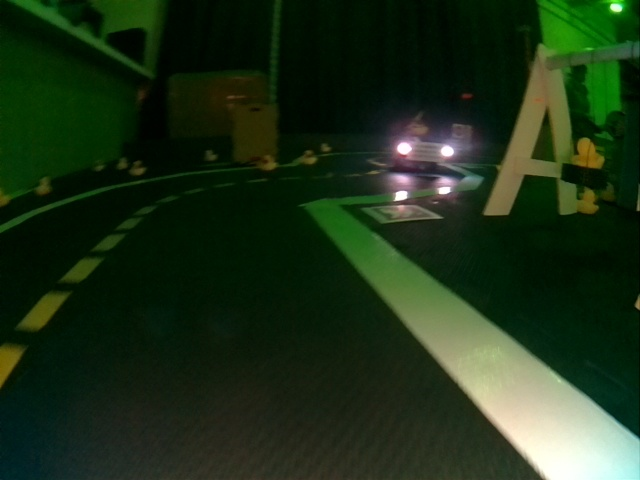Duckie: (576, 139, 600, 169), (578, 189, 599, 214), (259, 155, 277, 172), (35, 177, 51, 193), (130, 164, 144, 176), (206, 151, 216, 160), (322, 144, 331, 152), (96, 162, 103, 169), (123, 159, 126, 166)
Duckiebot: (389, 134, 454, 165)
QR code: (363, 204, 443, 222)
